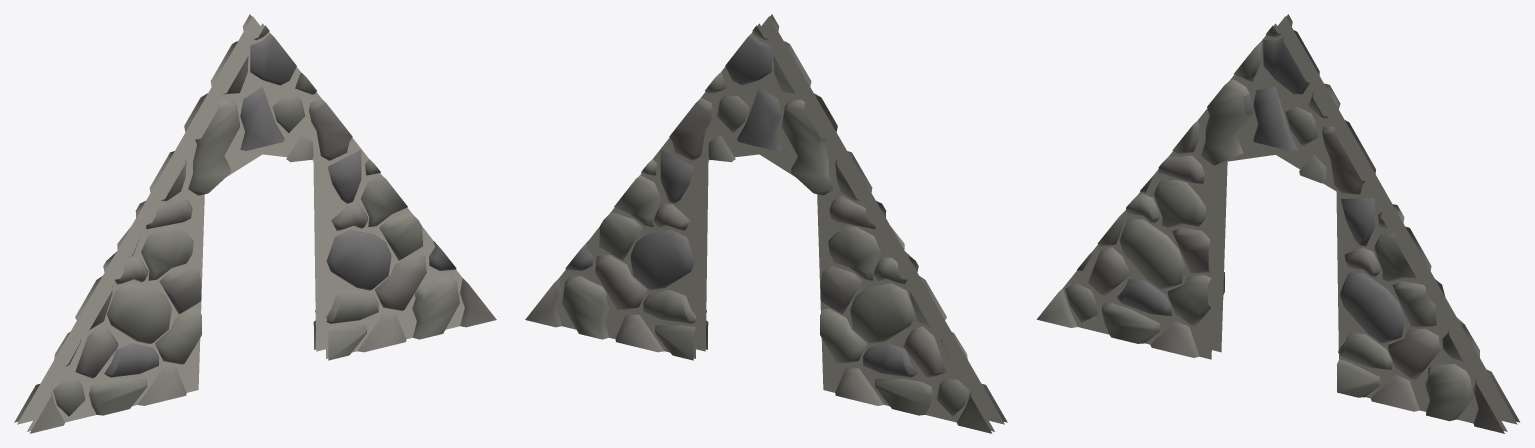
File: rpgpp_ag_roof_end_01_6x5_wall_door_04c.fbx
3 renders of one model, left to right at view 1: azimuth 30°, elevation 25°; view 2: azimuth 150°, elevation 25°; view 3: azimuth 330°, elevation 25°, orthographic.
Visible parts, largest first — view 1: rpgpp_ag_roof_end_01_6x5_wall_door_04c; view 2: rpgpp_ag_roof_end_01_6x5_wall_door_04c; view 3: rpgpp_ag_roof_end_01_6x5_wall_door_04c.
Part boxes in pixels (left/top/right/bottom): rpgpp_ag_roof_end_01_6x5_wall_door_04c: left=14, top=14, right=496, bottom=433; rpgpp_ag_roof_end_01_6x5_wall_door_04c: left=525, top=14, right=1007, bottom=433; rpgpp_ag_roof_end_01_6x5_wall_door_04c: left=1036, top=14, right=1520, bottom=433.
Bounding box in the file's own units: 6.38 × 4.58 × 0.404.
